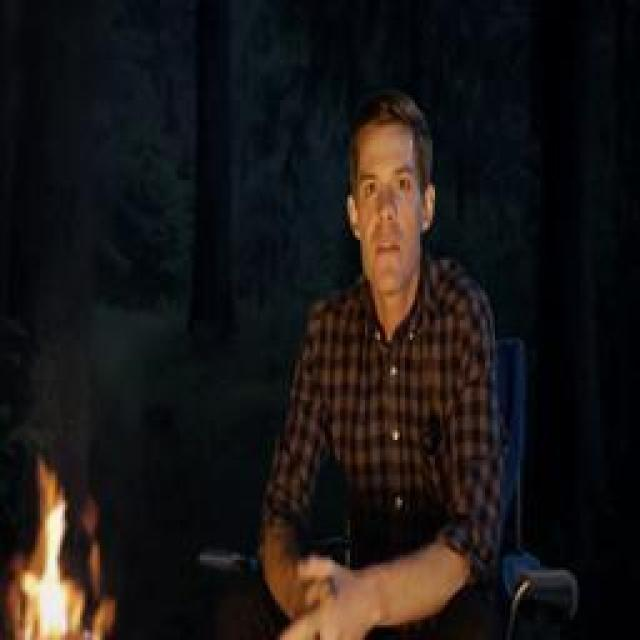Fire: (2, 457, 119, 640)
